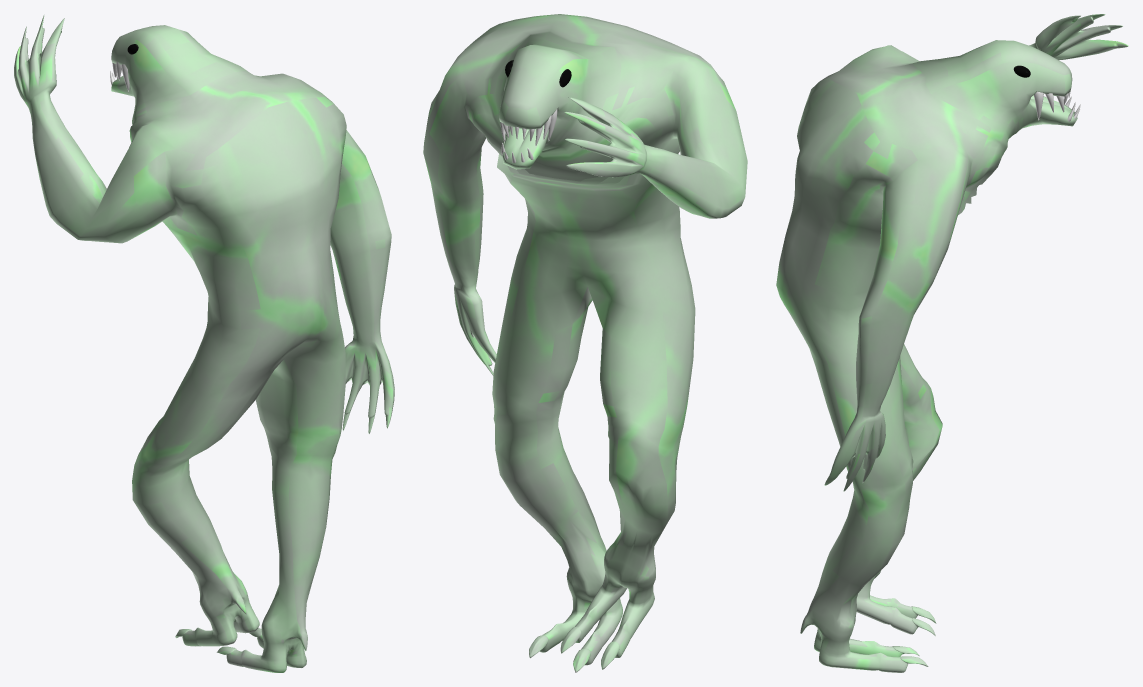
File: Berserkercorrer.0025.obj
3 views of the same model, side by side, from view 1: azimuth 30°, elevation 25°; view 2: azimuth 150°, elevation 25°; view 3: azimuth 270°, elevation 25° (orthographic). The views are drawn at different scales.
Parts seen in each view (by area): view 1: polySurface27; view 2: polySurface27; view 3: polySurface27.
Boxes of the visible parts, x1,y1,x2,y2 form: polySurface27: (14,15,394,672); polySurface27: (423,14,747,672); polySurface27: (776,14,1128,672).
Bounding box in the file's own units: 11.85 × 22.89 × 12.03.
1 material, 1 textured.
